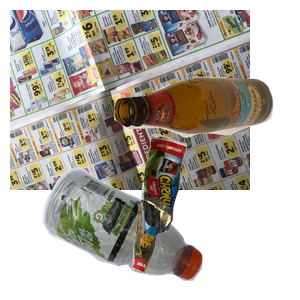glass: (111, 74, 300, 204)
paper: (10, 10, 250, 190)
plastic: (40, 165, 235, 300)
trash: (130, 131, 300, 300)
